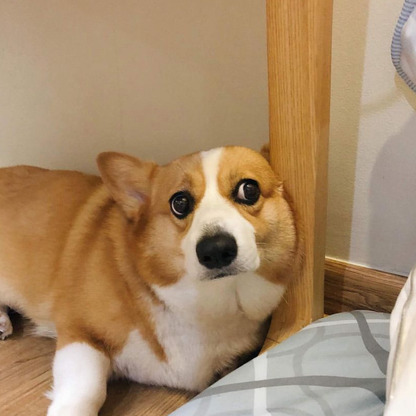Corgi: (17, 131, 314, 393)
